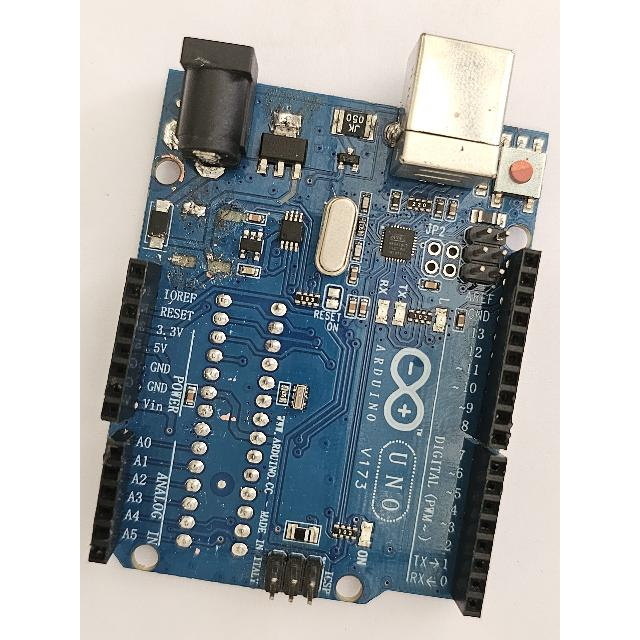missing_atmega: (171, 288, 292, 563)
missing_capacitors: (168, 197, 247, 280)
